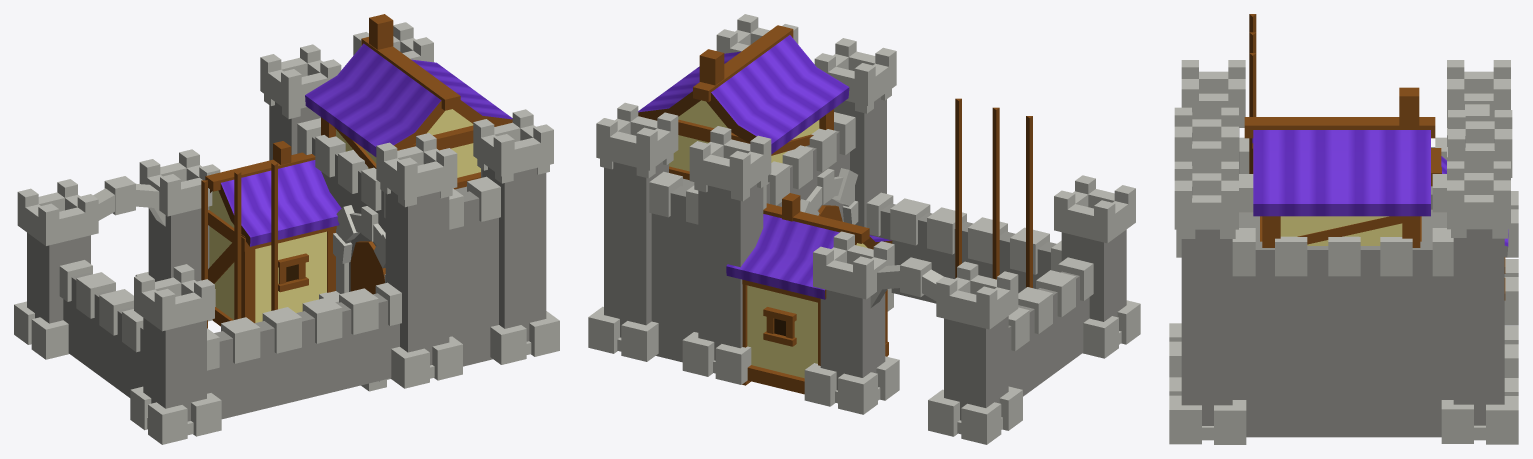
The model's file is barracks.fbx.
3 views of the same model, side by side, from view 1: azimuth 30°, elevation 25°; view 2: azimuth 150°, elevation 25°; view 3: azimuth 270°, elevation 25° (orthographic). The views are drawn at different scales.
Parts seen in each view (by area): view 1: polySurface171; view 2: polySurface171; view 3: polySurface171.
Part boxes in pixels (left/top/right/bottom): polySurface171: left=14, top=14, right=559, bottom=444; polySurface171: left=588, top=14, right=1140, bottom=444; polySurface171: left=1169, top=14, right=1518, bottom=444.
Size of the model in its own units: 331 by 230 by 222.
1 material, 1 textured.
